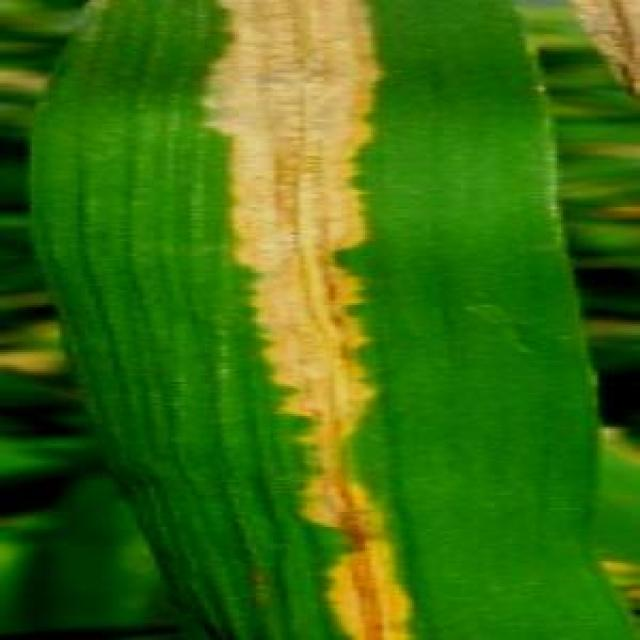Bacterial_Leaf_Blight: (49, 0, 606, 638)
